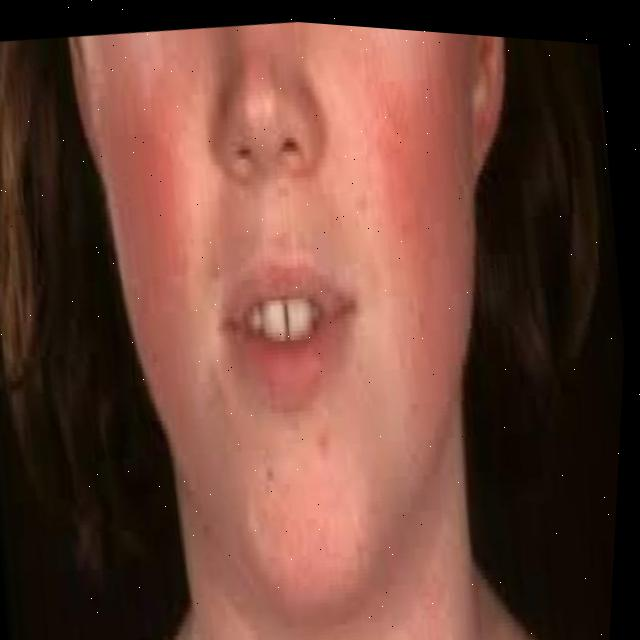Rosacea: (342, 47, 513, 395), (74, 35, 244, 384)
